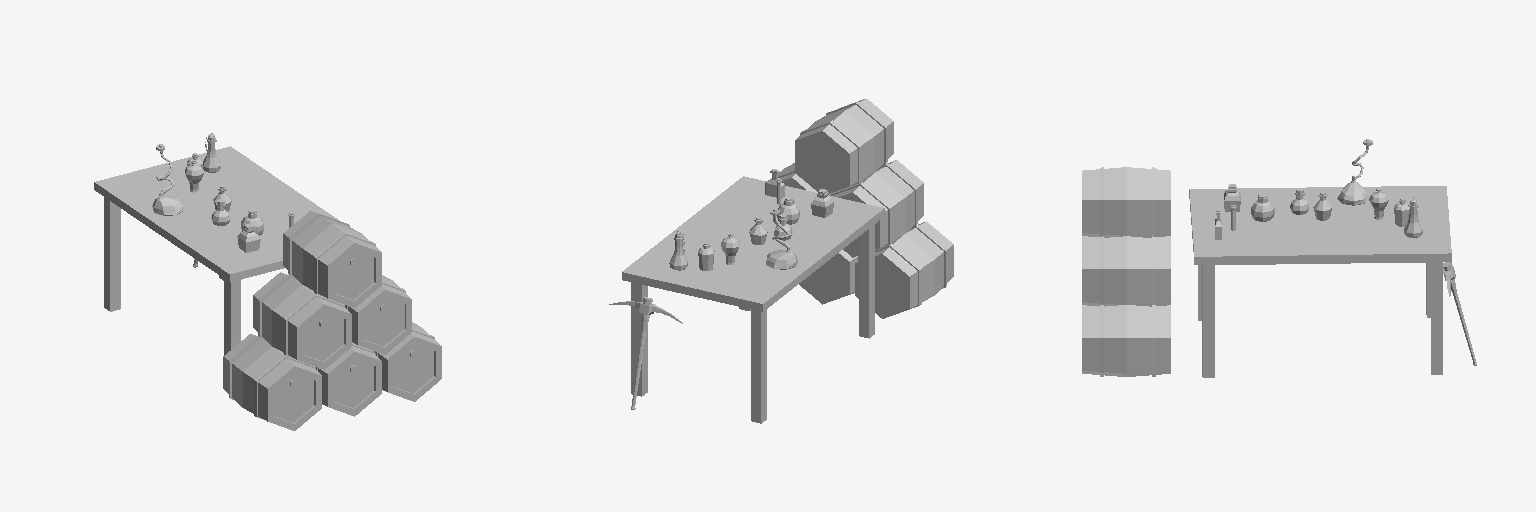
The model's file is alchym.obj.
The picture shows the model from 3 angles: view 1: azimuth 30°, elevation 25°; view 2: azimuth 150°, elevation 25°; view 3: azimuth 270°, elevation 25°; orthographic projection.
Visible parts, largest first — view 1: Barrels_with_drink_Scene, Table_2_Scene.012, Potion_3_Scene.004; view 2: Table_2_Scene.012, Barrels_with_drink_Scene, Pickaxe_Scene.001, Potion_3_Scene.004; view 3: Table_2_Scene.012, Barrels_with_drink_Scene, Potion_3_Scene.004, Pickaxe_Scene.001.
Boxes of the visible parts, x1,y1,x2,y2 form: Barrels_with_drink_Scene: [223, 210, 441, 430]; Table_2_Scene.012: [94, 146, 337, 355]; Potion_3_Scene.004: [152, 144, 183, 215]; Table_2_Scene.012: [622, 176, 884, 423]; Barrels_with_drink_Scene: [771, 98, 953, 318]; Pickaxe_Scene.001: [609, 297, 682, 409]; Potion_3_Scene.004: [766, 208, 797, 269]; Table_2_Scene.012: [1189, 186, 1451, 377]; Barrels_with_drink_Scene: [1082, 167, 1170, 376]; Potion_3_Scene.004: [1337, 139, 1372, 205]; Pickaxe_Scene.001: [1443, 262, 1476, 365].
Size of the model in its own units: 1.63 by 1.59 by 3.1.